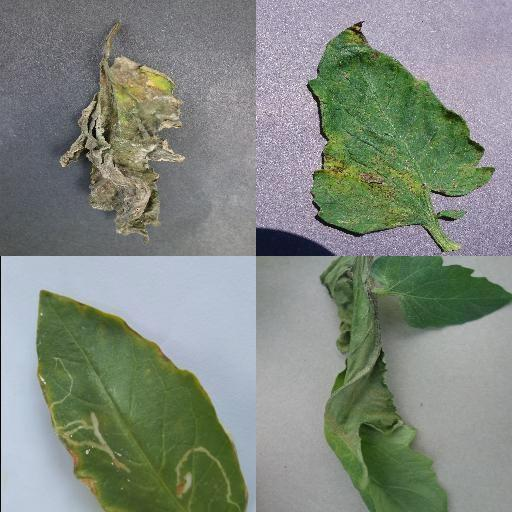Healthy: (371, 256, 512, 332)
Late Blight: (321, 256, 449, 512), (58, 56, 184, 242)
Leaf Miner: (37, 289, 249, 512)
Septoria: (307, 21, 495, 239)
